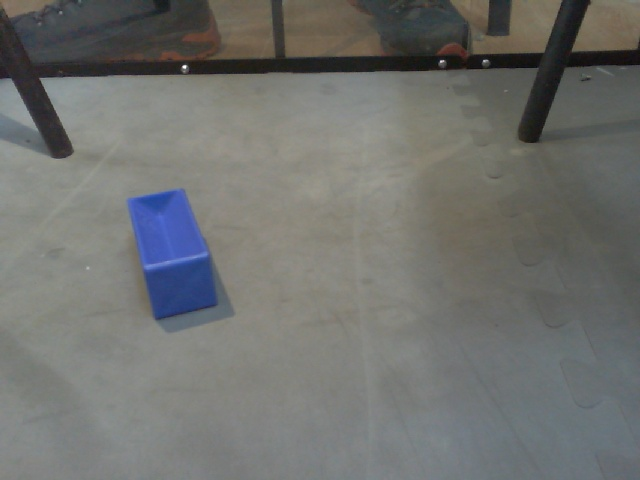BlueSample: (122, 186, 223, 323)
